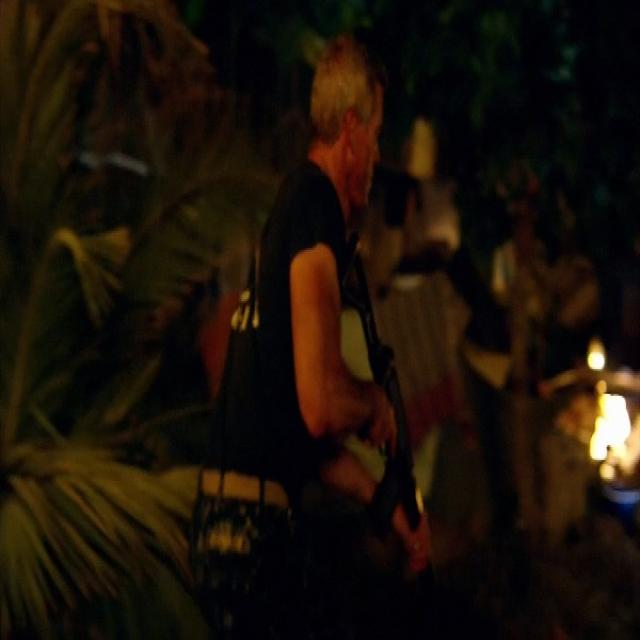rifle: (340, 235, 435, 544)
